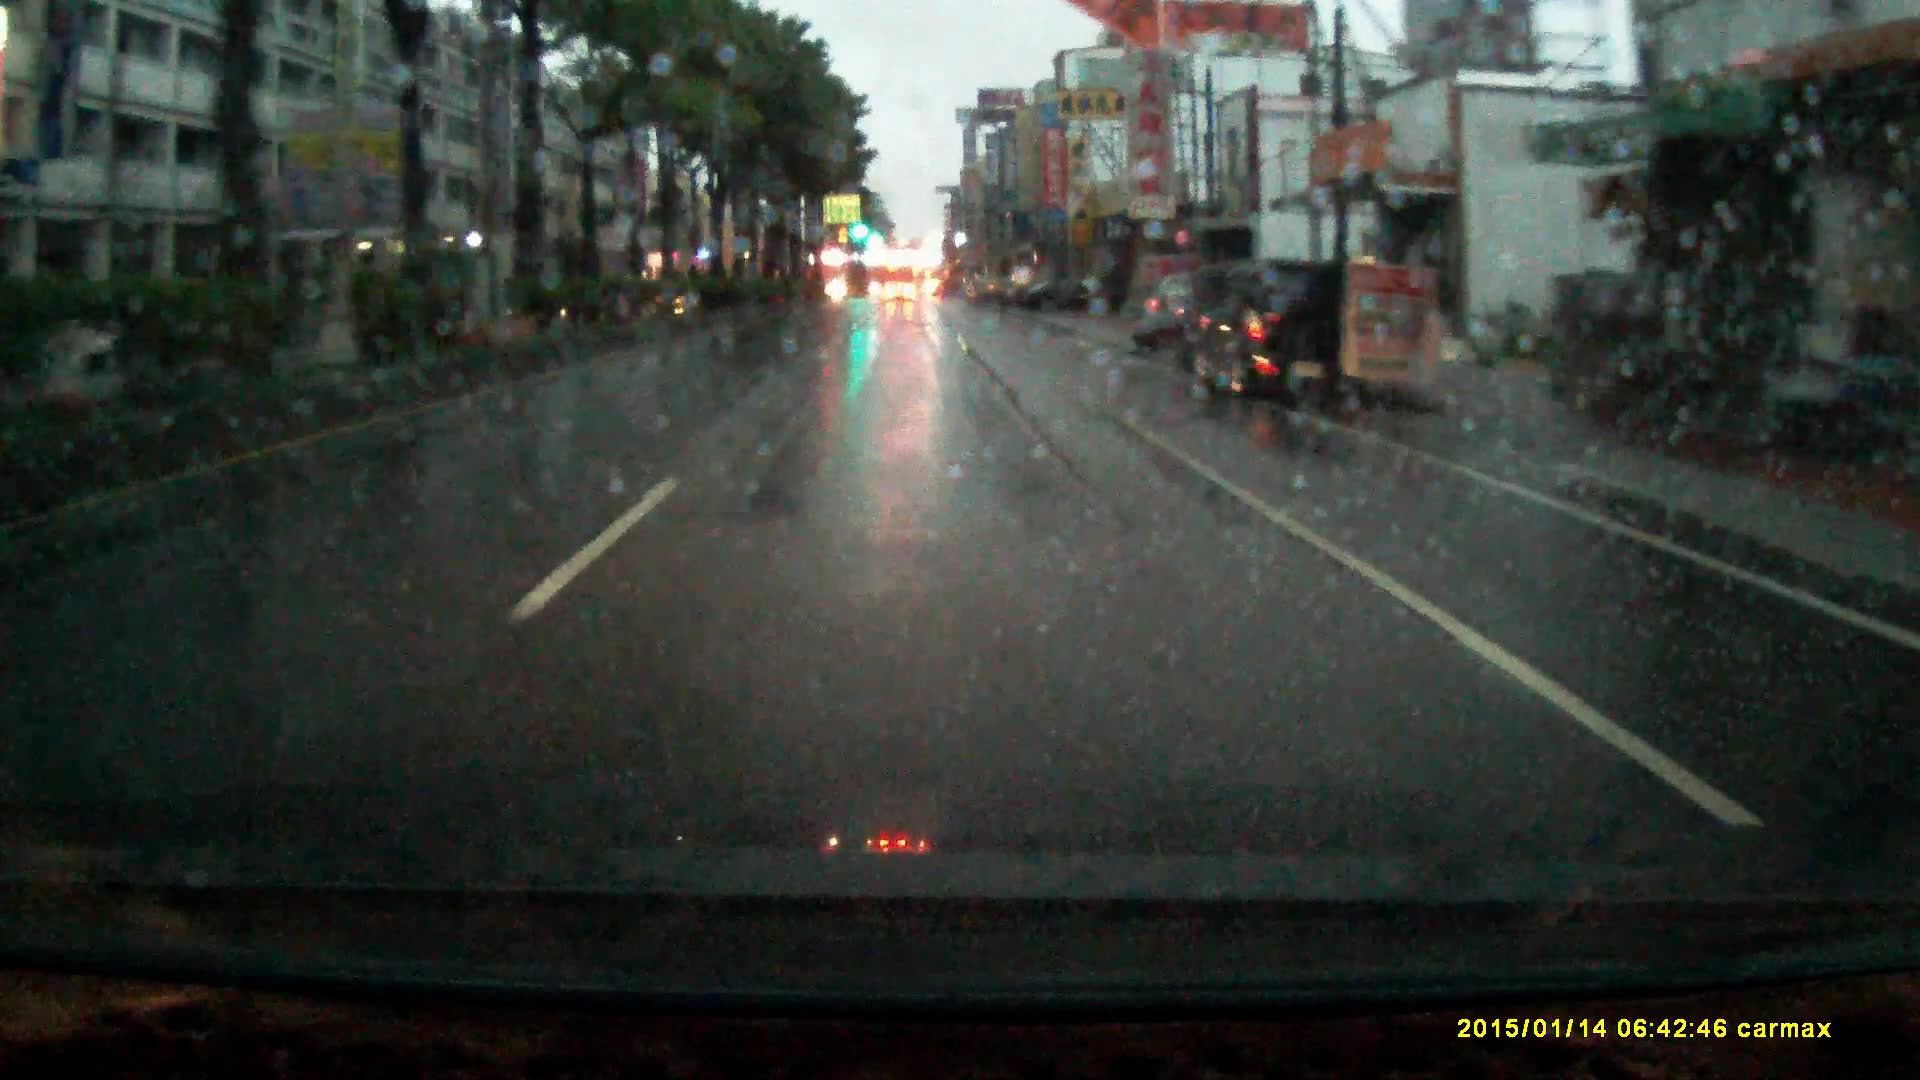vehicle: (1193, 266, 1383, 425), (885, 285, 918, 310)
